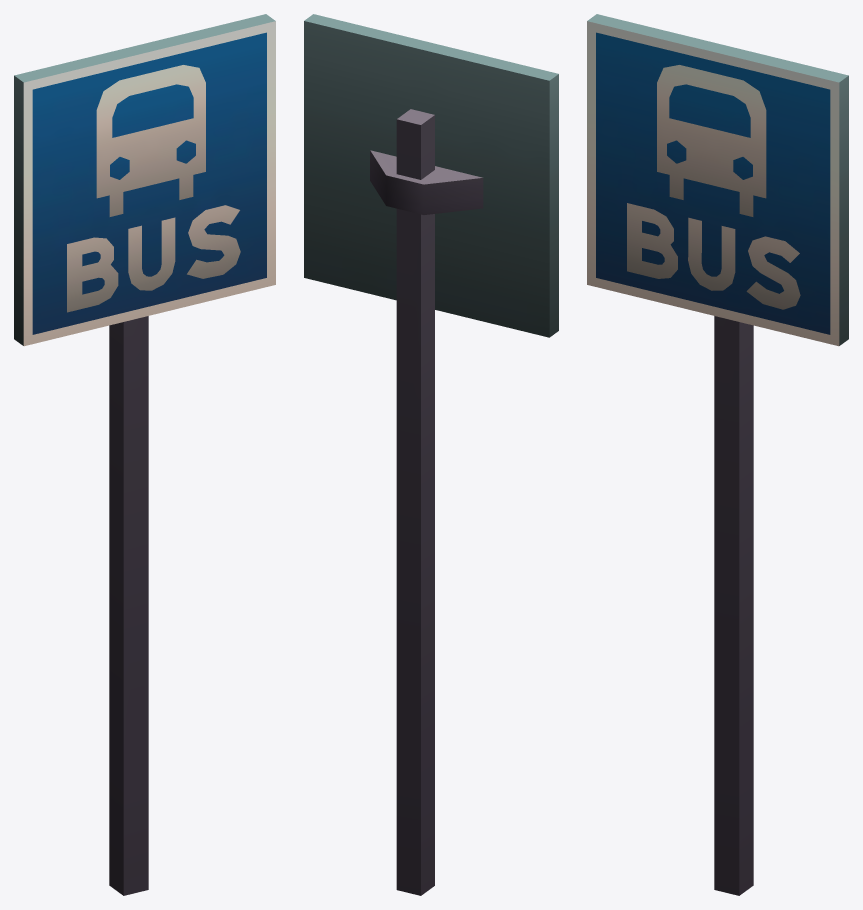
The model's file is Streetsign_2E.fbx.
3 renders of one model, left to right at view 1: azimuth 30°, elevation 25°; view 2: azimuth 150°, elevation 25°; view 3: azimuth 330°, elevation 25°, orthographic. The views are drawn at different scales.
Visible parts, largest first — view 1: Streetsign_2E; view 2: Streetsign_2E; view 3: Streetsign_2E.
Part boxes in pixels (box(x1,y1,x2,y2)): Streetsign_2E: box(14, 14, 275, 895); Streetsign_2E: box(304, 14, 558, 895); Streetsign_2E: box(587, 14, 848, 895).
Size of the model in its own units: 27.43 by 88.52 by 6.66.
